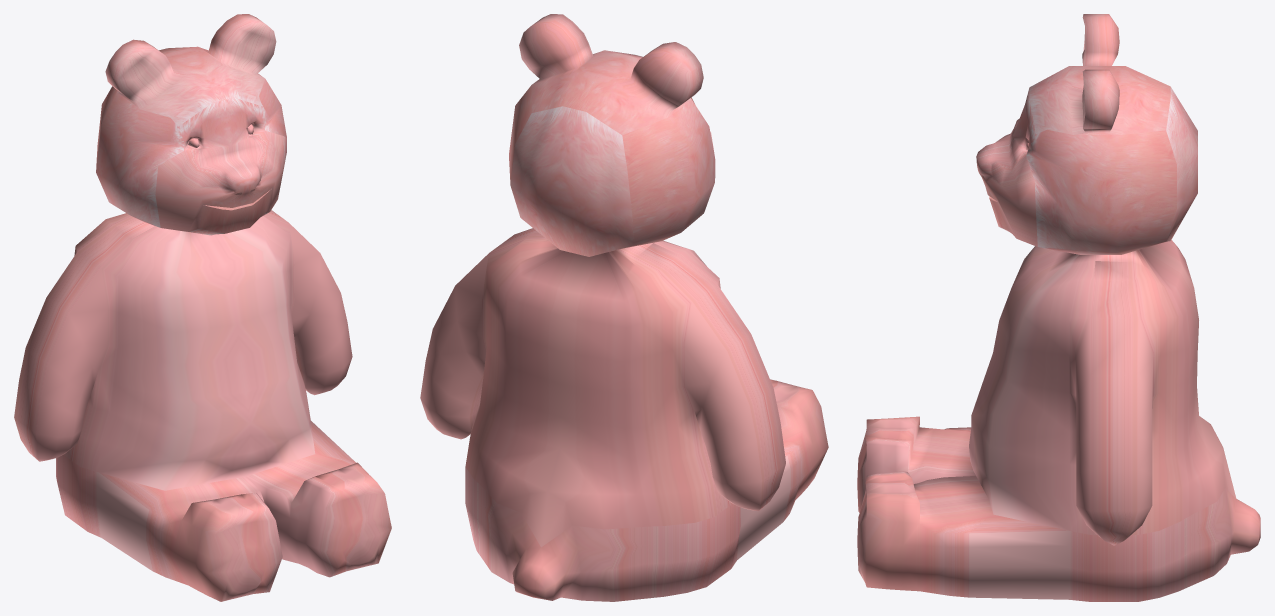
Rendered from teddybear.fbx.
3 renders of one model, left to right at view 1: azimuth 30°, elevation 25°; view 2: azimuth 150°, elevation 25°; view 3: azimuth 270°, elevation 25°, orthographic. The views are drawn at different scales.
Parts seen in each view (by area): view 1: 곰돌이_몸통; view 2: 곰돌이_몸통; view 3: 곰돌이_몸통.
Boxes of the visible parts, left/top/right/bottom form: 곰돌이_몸통: left=14, top=14, right=391, bottom=601; 곰돌이_몸통: left=420, top=14, right=828, bottom=601; 곰돌이_몸통: left=857, top=14, right=1260, bottom=601.
Size of the model in its own units: 169 by 176 by 242.
Materials: 1 (1 with a texture image).
